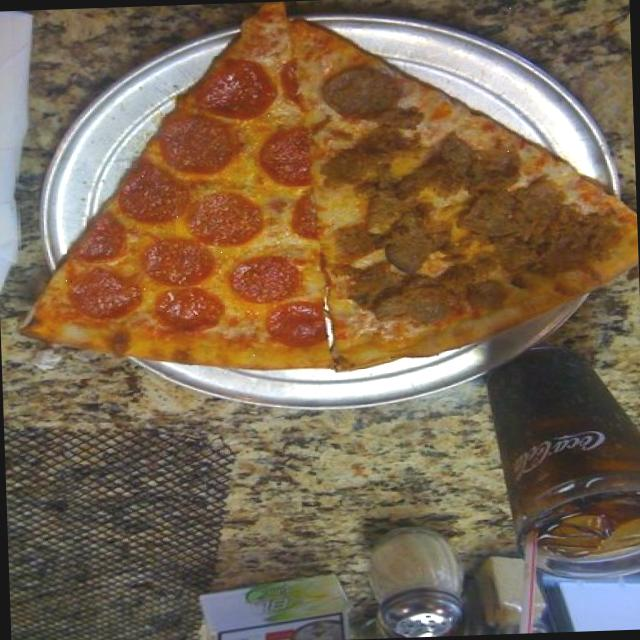pepperoni: (187, 54, 283, 128), (245, 122, 338, 194), (174, 188, 270, 248), (151, 114, 236, 181), (252, 296, 341, 358), (53, 267, 148, 325), (119, 165, 194, 230), (152, 283, 232, 342), (134, 234, 215, 292), (220, 250, 300, 306), (65, 214, 133, 268), (286, 186, 332, 244), (276, 52, 318, 110)
pizza: (22, 1, 635, 369)
